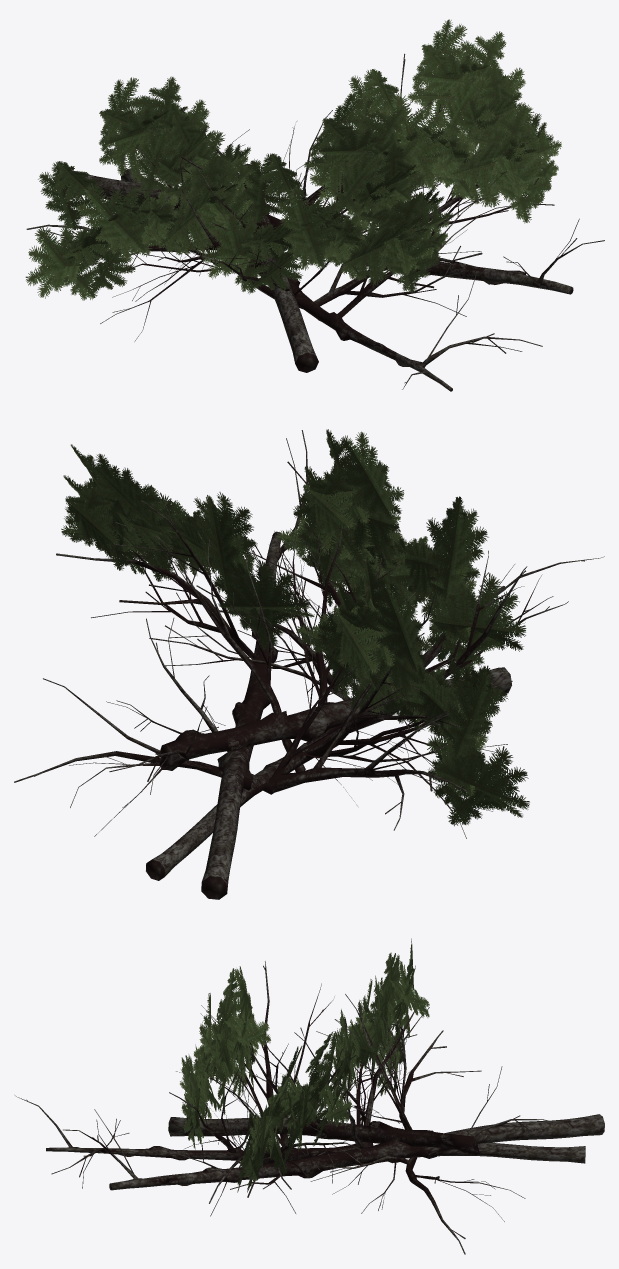
Rendered from TreePile1.fbx.
3 views of the same model, one above another, from view 1: azimuth 30°, elevation 25°; view 2: azimuth 150°, elevation 25°; view 3: azimuth 270°, elevation 25° (orthographic). The views are drawn at different scales.
Parts seen in each view (by area): view 1: tree_003_pngtree_natural_pine_tree_branch_close_up_elem_0a3., Normal_Pine.003; view 2: tree_003_pngtree_natural_pine_tree_branch_close_up_elem_0a3., Normal_Pine.003; view 3: Normal_Pine.003, tree_003_pngtree_natural_pine_tree_branch_close_up_elem_0a3..
Boxes of the visible parts, x1,y1,x2,y2 form: tree_003_pngtree_natural_pine_tree_branch_close_up_elem_0a3.: (25,19,561,300); Normal_Pine.003: (26,53,604,391); tree_003_pngtree_natural_pine_tree_branch_close_up_elem_0a3.: (61,429,529,826); Normal_Pine.003: (14,430,604,899); Normal_Pine.003: (15,961,604,1254); tree_003_pngtree_natural_pine_tree_branch_close_up_elem_0a3.: (180,938,429,1192).
Bounding box in the file's own units: 1873 × 948 × 2284.
